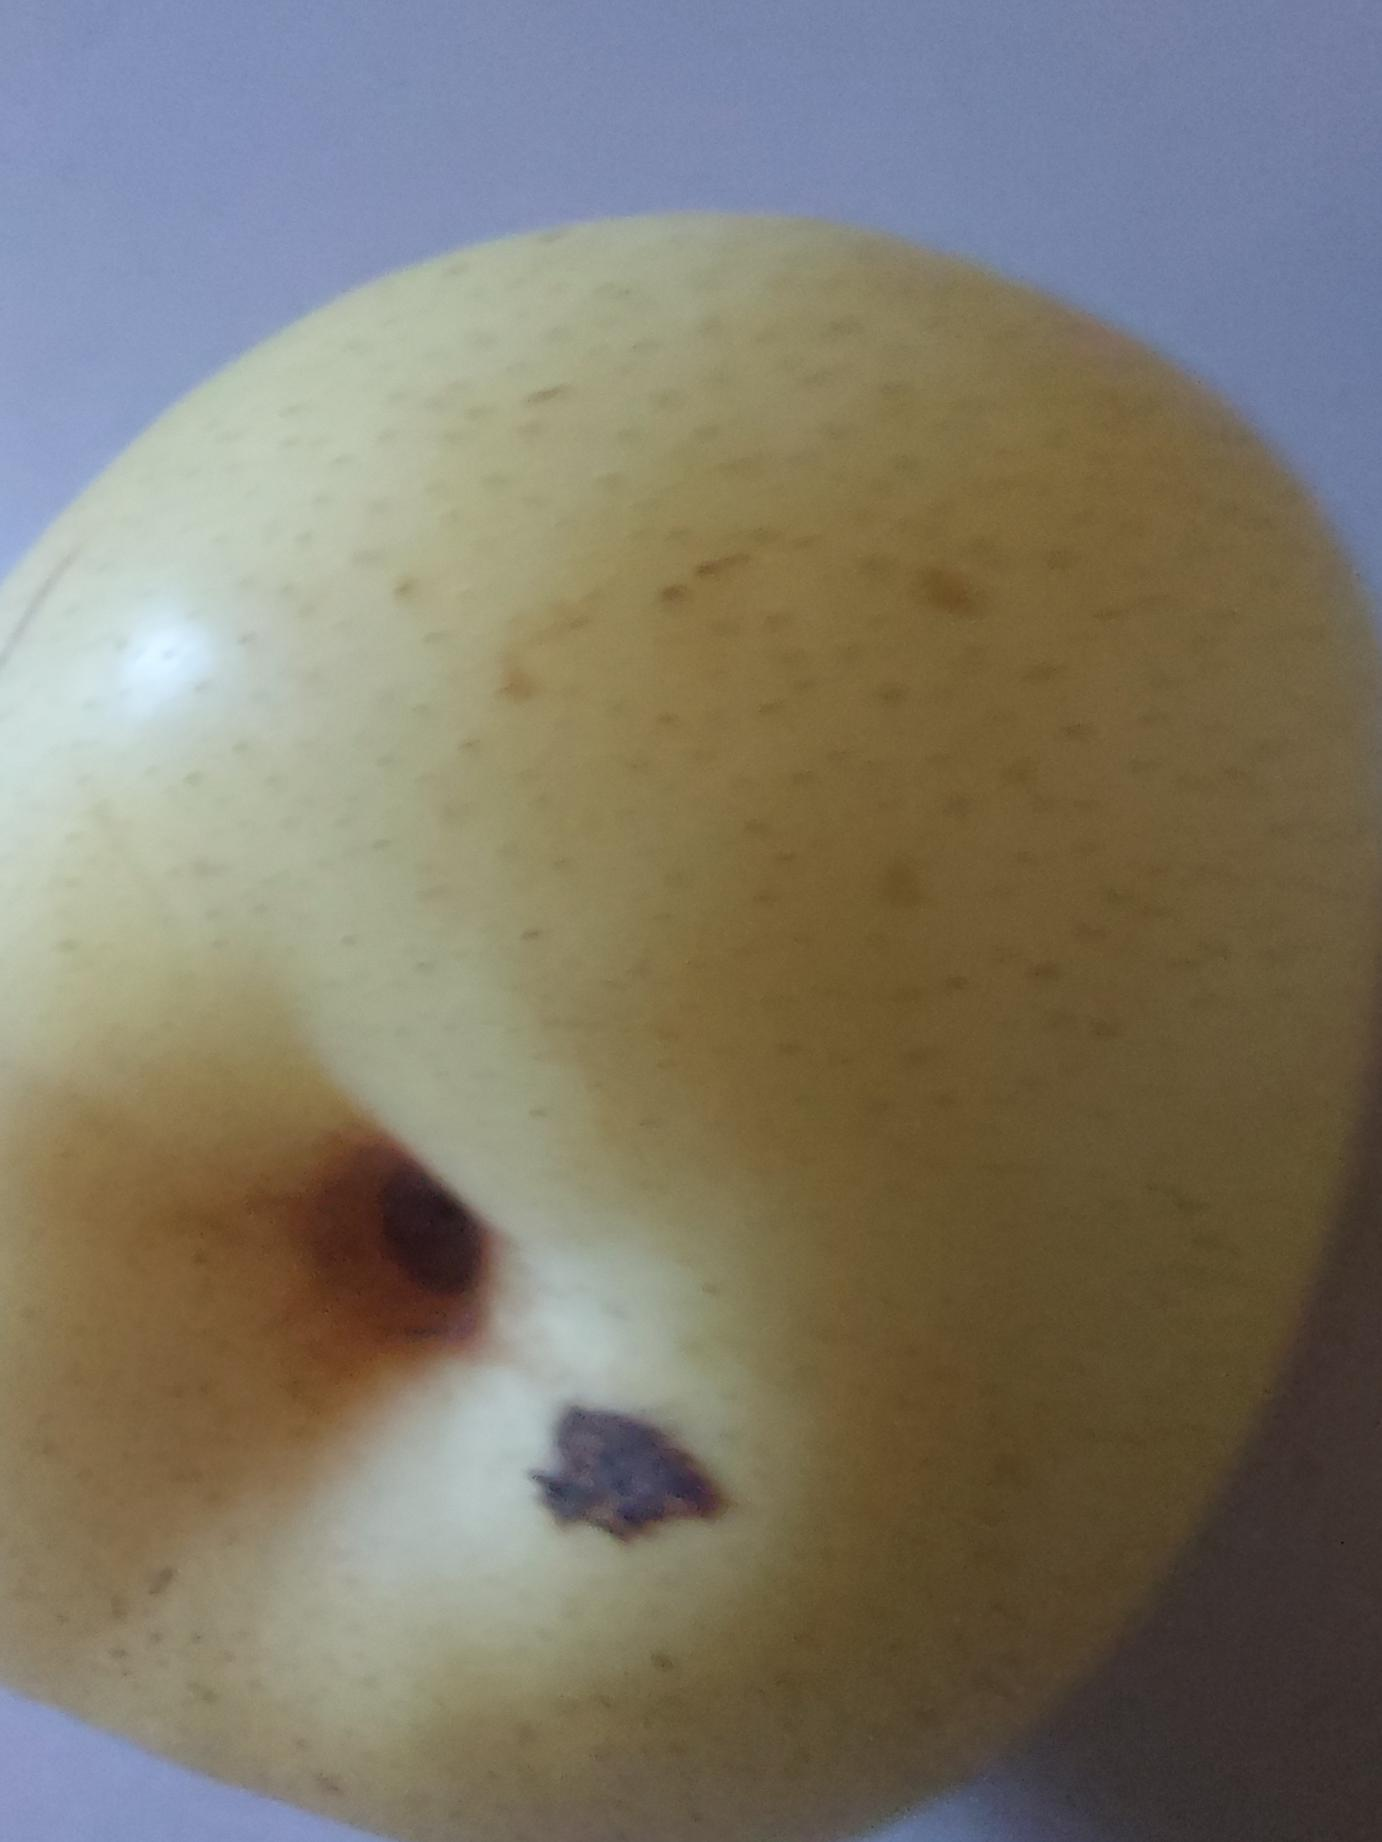Good Pear: (0, 163, 1382, 1842)
